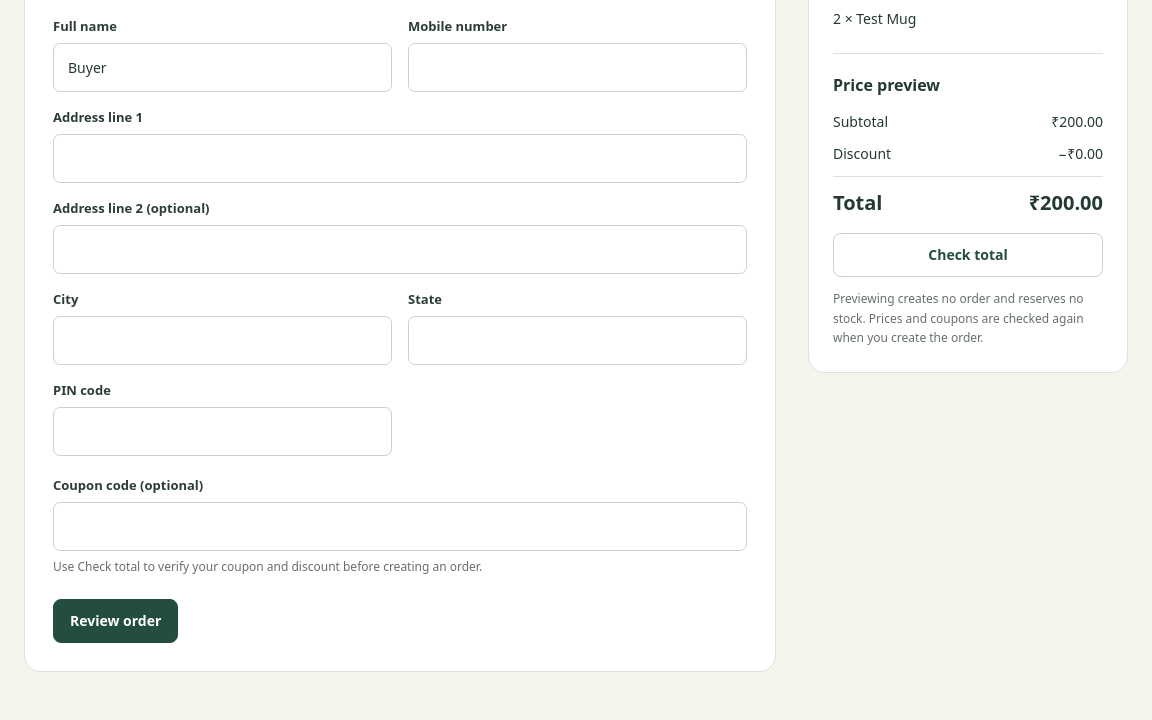
Test: invalid coupons display a safe preview error without creating an order
(page scrolled)
Step 1. Type "BADCODE" into the field labelled "Coupon code (optional)" → (400, 526), box left=53, top=502, right=747, bottom=551
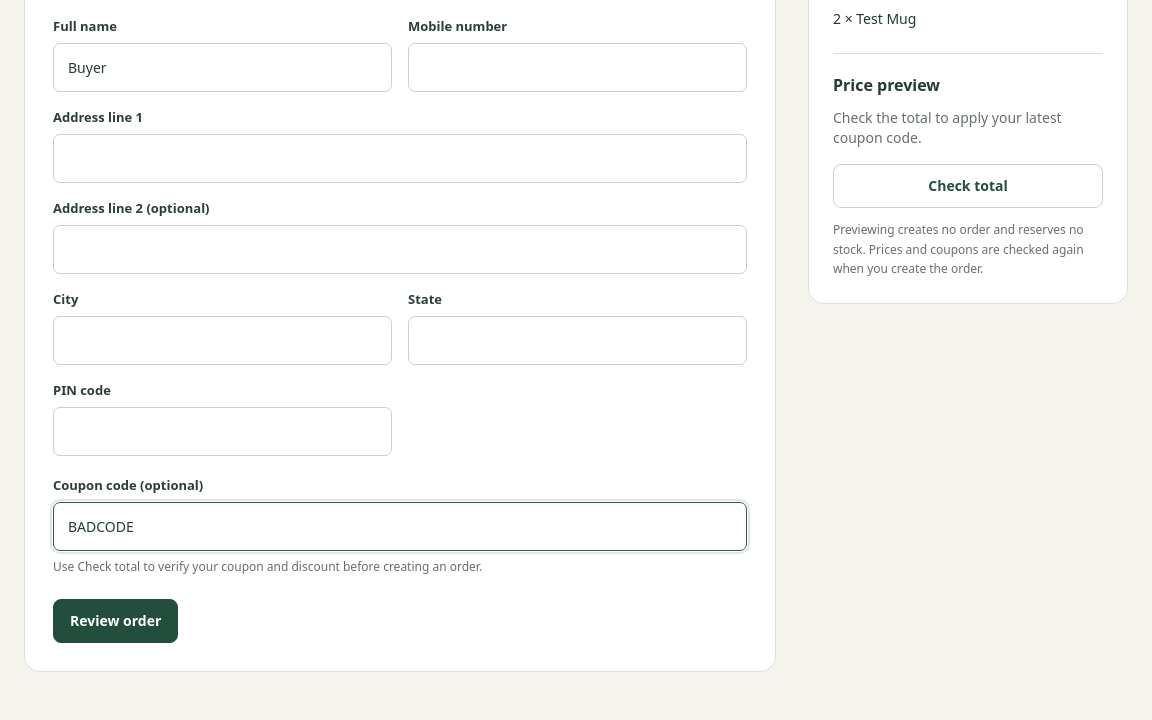
Step 2. Click the button "Check total" → click(968, 186), box left=833, top=164, right=1103, bottom=208
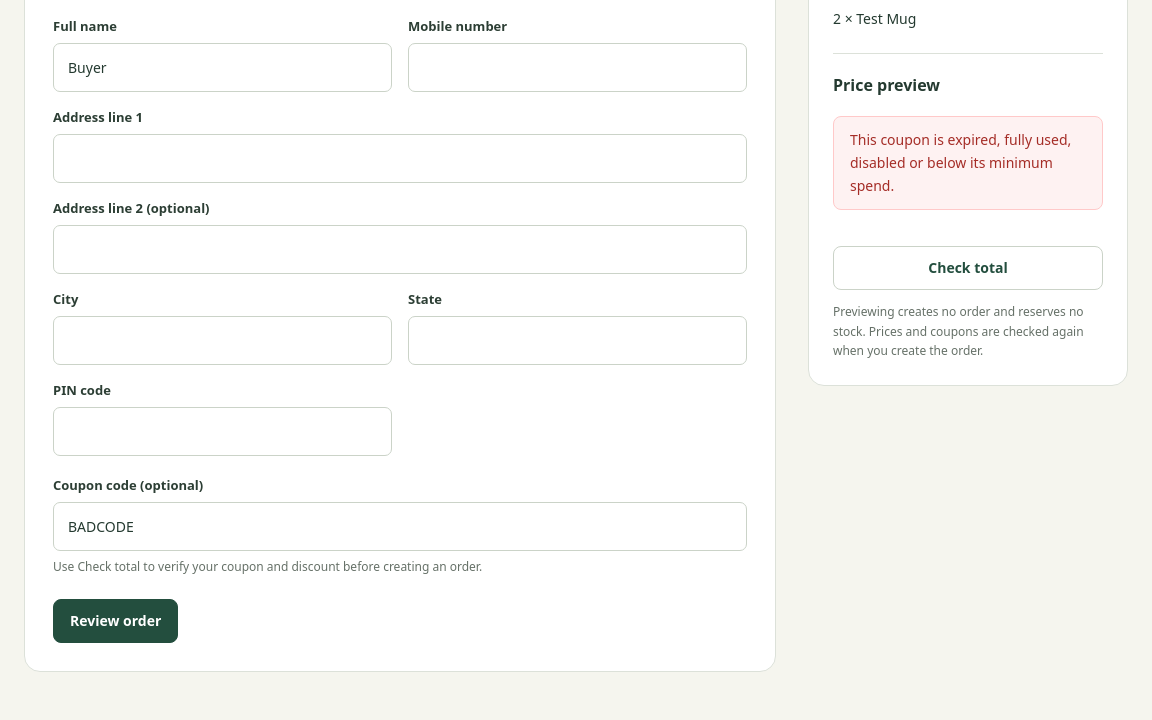
Now the text "This coupon is expired, fully used, disabled or below its minimum spend." is shown, box left=833, top=116, right=1103, bottom=210
